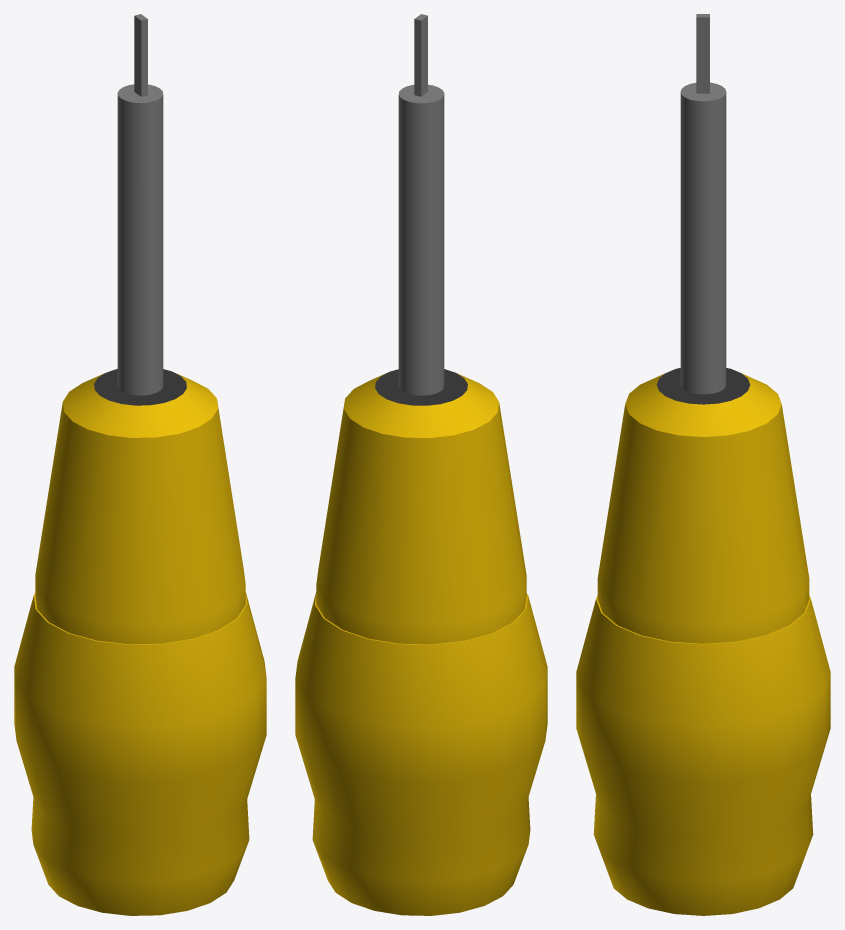
File: Screwdriver.fbx
3 views of the same model, side by side, from view 1: azimuth 30°, elevation 25°; view 2: azimuth 150°, elevation 25°; view 3: azimuth 270°, elevation 25° (orthographic).
Visible parts, largest first — view 1: Screwdriver; view 2: Screwdriver; view 3: Screwdriver.
Boxes of the visible parts, box(x1,y1,x2,y2) form: Screwdriver: box(14, 14, 266, 915); Screwdriver: box(295, 14, 547, 915); Screwdriver: box(576, 14, 830, 915).
Size of the model in its own units: 58.08 by 217 by 58.08.
